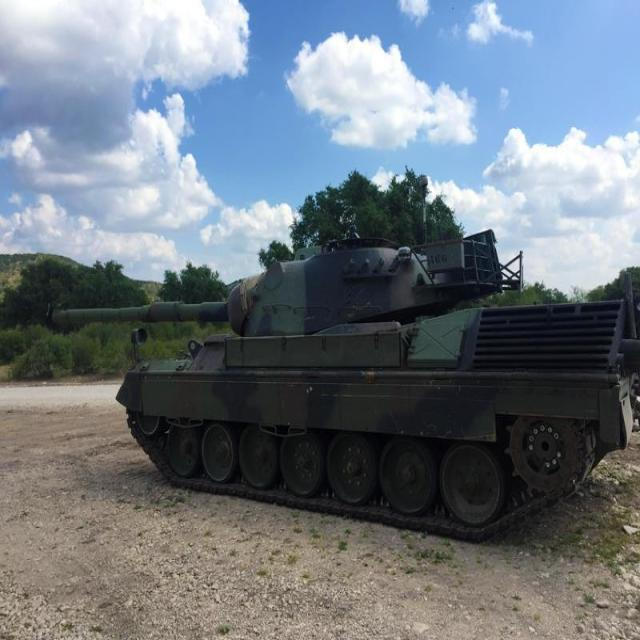Tanks: (36, 62, 574, 583)
